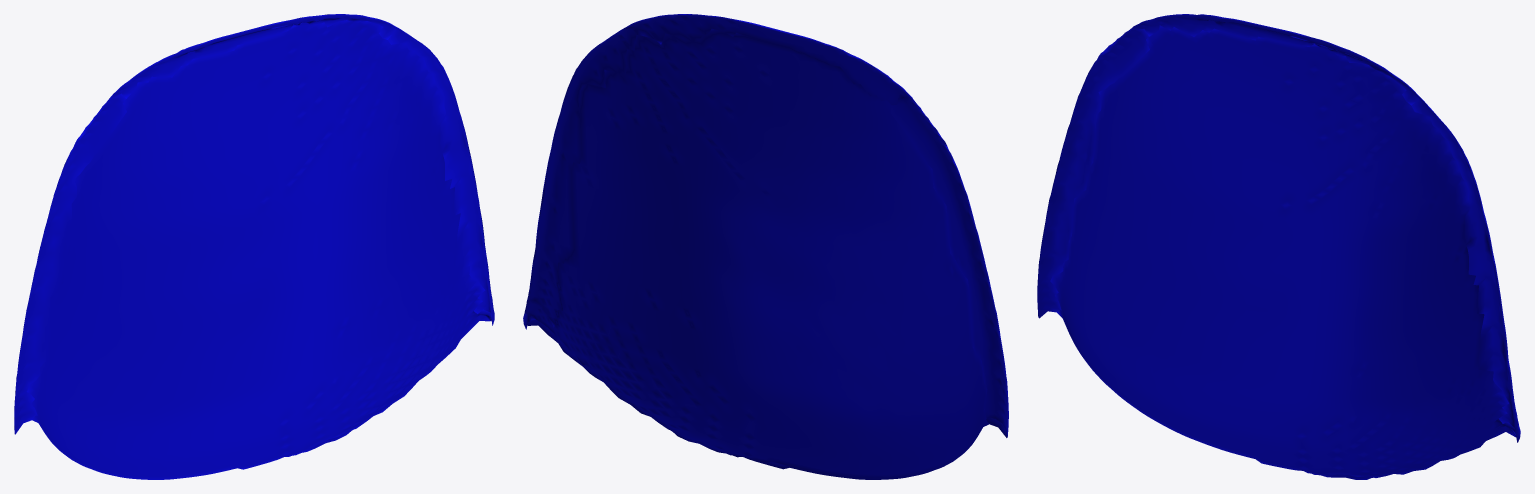
3 renders of one model, left to right at view 1: azimuth 30°, elevation 25°; view 2: azimuth 150°, elevation 25°; view 3: azimuth 330°, elevation 25°, orthographic.
Bounding box in the file's own units: 0.9523 × 0.8267 × 0.0164.
